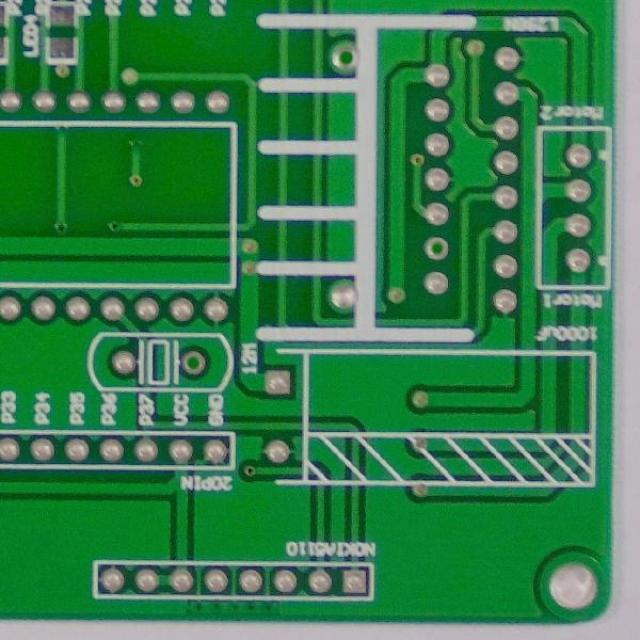missing_hole: (178, 348, 210, 380), (332, 42, 362, 72), (425, 232, 451, 262)
